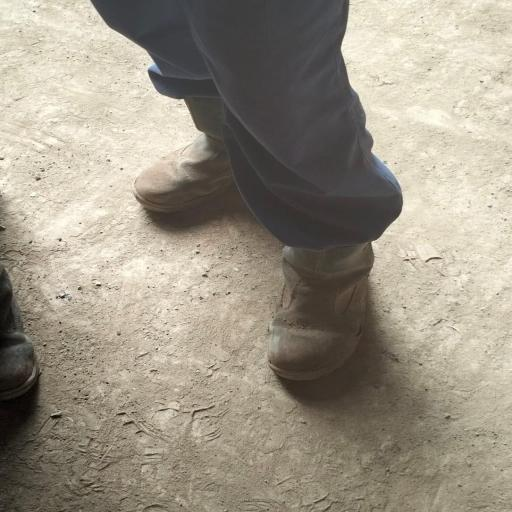safety_shoe: (261, 217, 387, 380), (121, 87, 272, 209)
